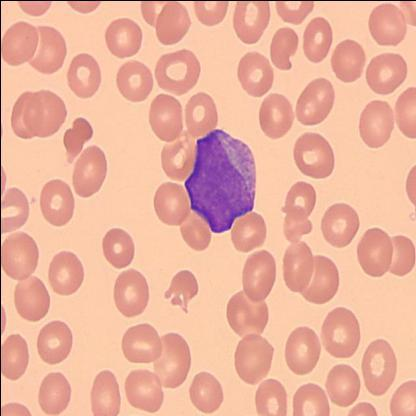Promyelocyte: (184, 130, 254, 233)
